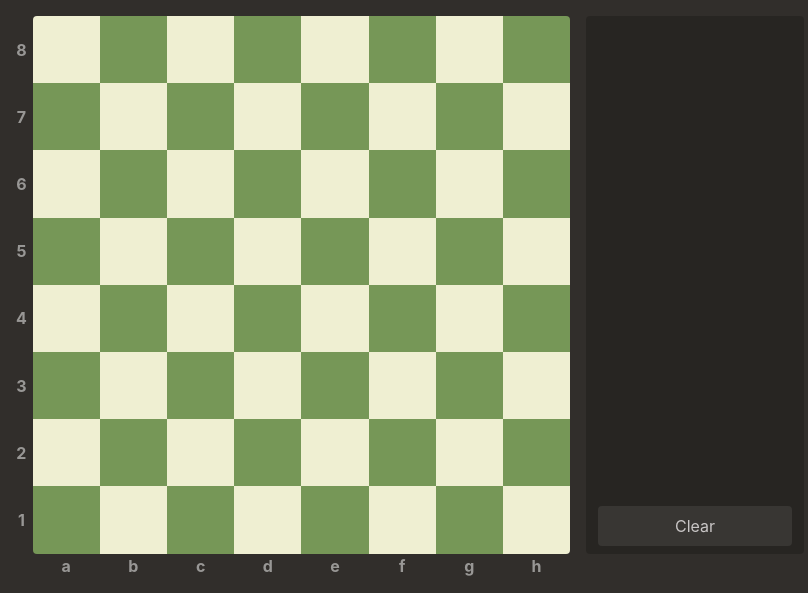
sidebar › `clear` button › clears sidebar
The width and height of the screenshot is (808, 593).
Click the element with test id "chessboard__square--a8": {"x": 67, "y": 50} [33, 16, 100, 83]
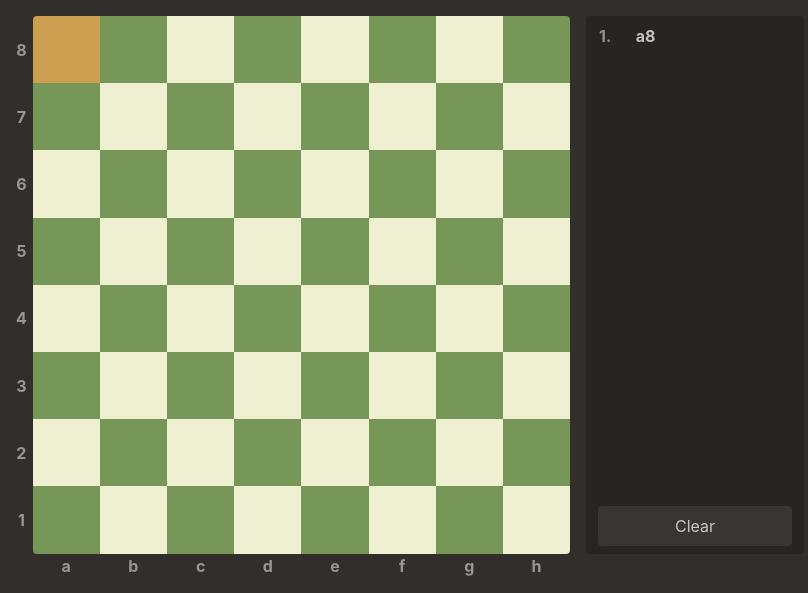
Click the button with class "sidebar__button": {"x": 695, "y": 526} [598, 506, 791, 546]
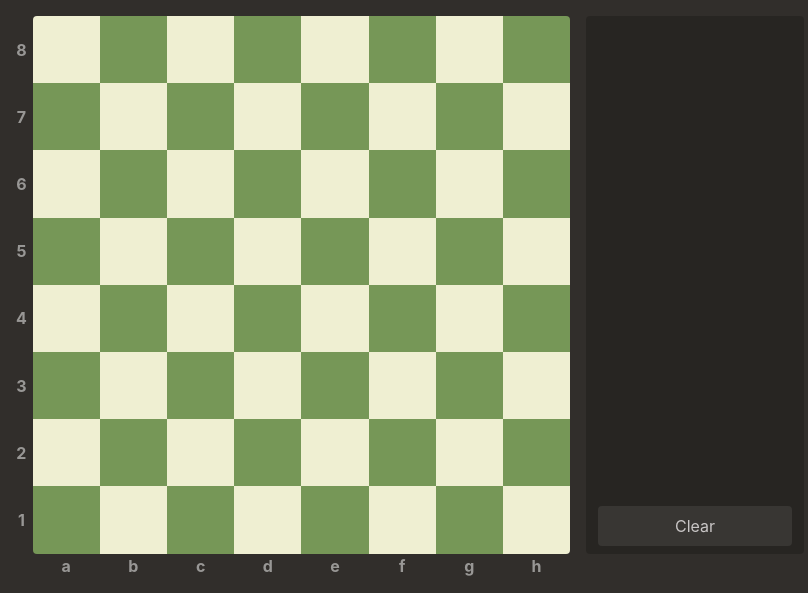
Check: the text with class "sidebar__row__square" is gone
